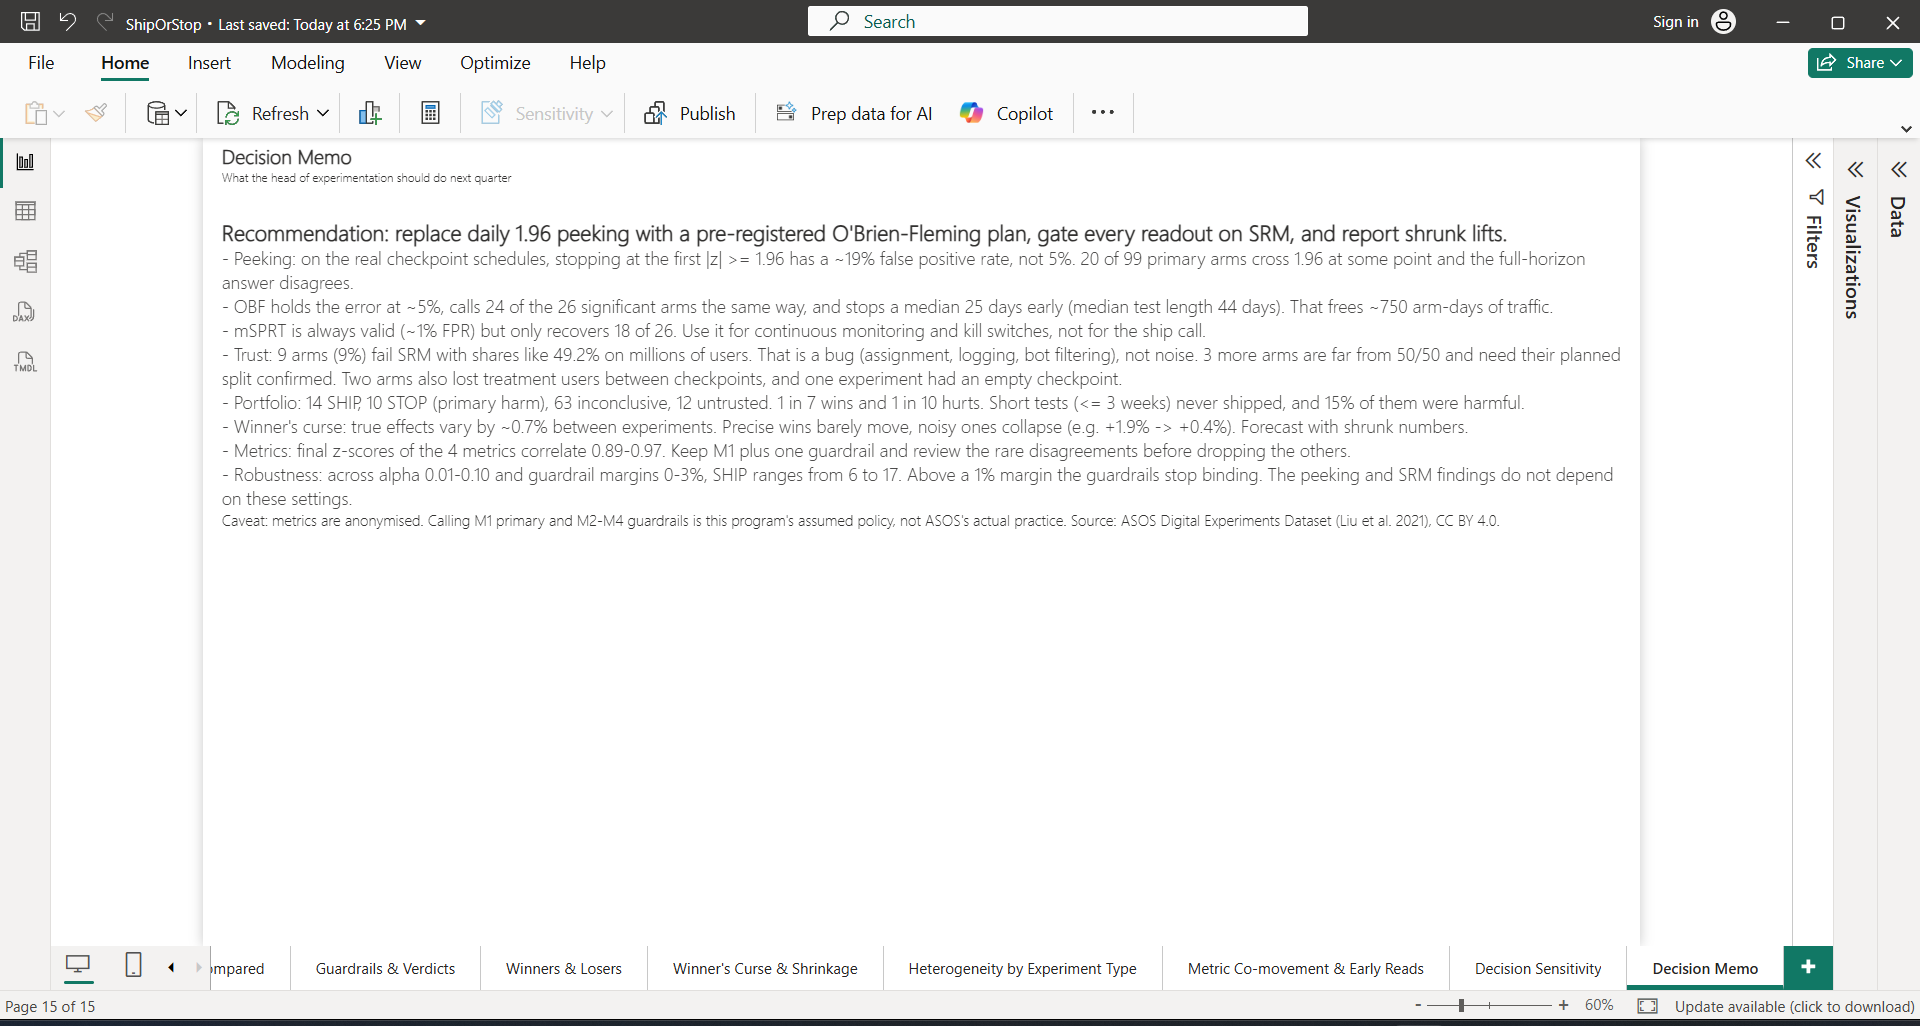

This screenshot's page, from the dashboard's own definition file:
{"tool":"powerbi","page":{"name":"Decision Memo","canvas":[1920,1080],"ordinal":14},"visuals":[{"type":"textbox","box":[20,2,1880,86],"z":0},{"type":"textbox","box":[20,100,1880,956],"z":501}]}

Visuals, with their boxes on the page's 1920x1080 design canvas (x1, y1, x2, y2). These are canvas units, not pixel positions in the 1920x1026 screenshot, which may show the page scaled, cropped or inside an application window:
textbox: <bbox>20, 2, 1900, 88</bbox>
textbox: <bbox>20, 100, 1900, 1056</bbox>
